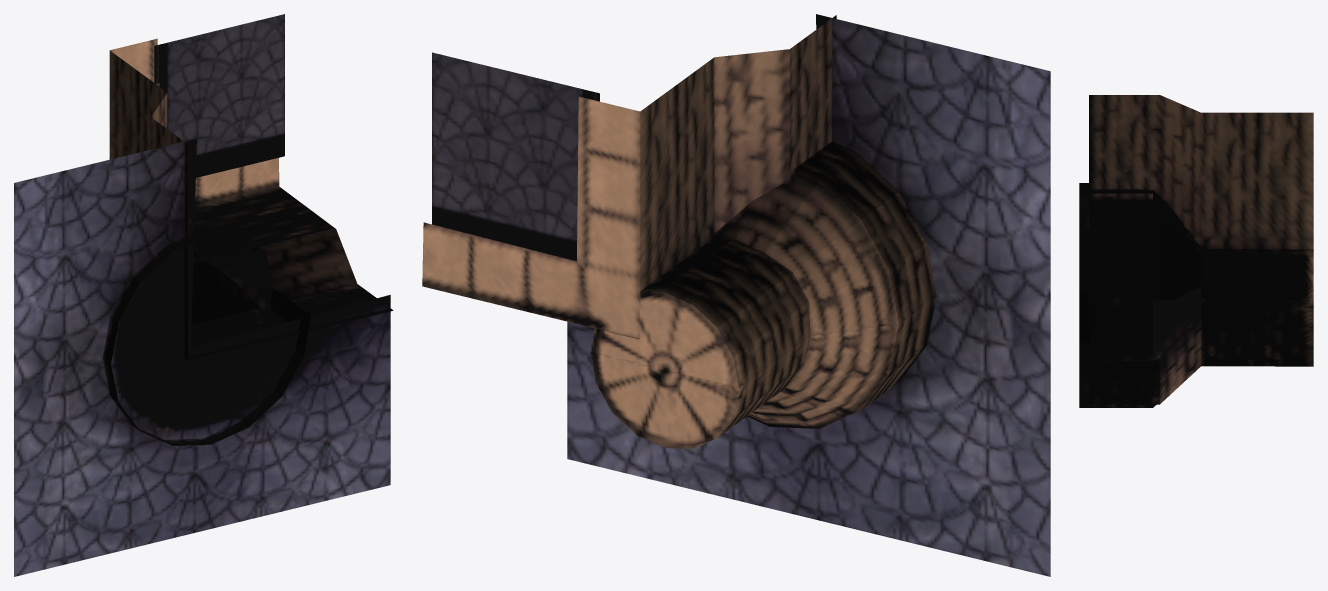
File: ex_ColumnCorner2.obj
3 views of the same model, side by side, from view 1: azimuth 30°, elevation 25°; view 2: azimuth 150°, elevation 25°; view 3: azimuth 270°, elevation 25° (orthographic). The views are drawn at different scales.
Visible parts, largest first — view 1: ex_Column0.005_Cylinder.010, object 2; view 2: ex_Column0.005_Cylinder.010, object 2; view 3: ex_Column0.005_Cylinder.010.
Part boxes in pixels (left/top/right/bottom): ex_Column0.005_Cylinder.010: left=14, top=38, right=393, bottom=576; object 2: left=154, top=14, right=284, bottom=177; ex_Column0.005_Cylinder.010: left=422, top=14, right=1050, bottom=576; object 2: left=432, top=52, right=599, bottom=261; ex_Column0.005_Cylinder.010: left=1079, top=95, right=1313, bottom=407.
Size of the model in its own units: 257 by 256 by 142.
